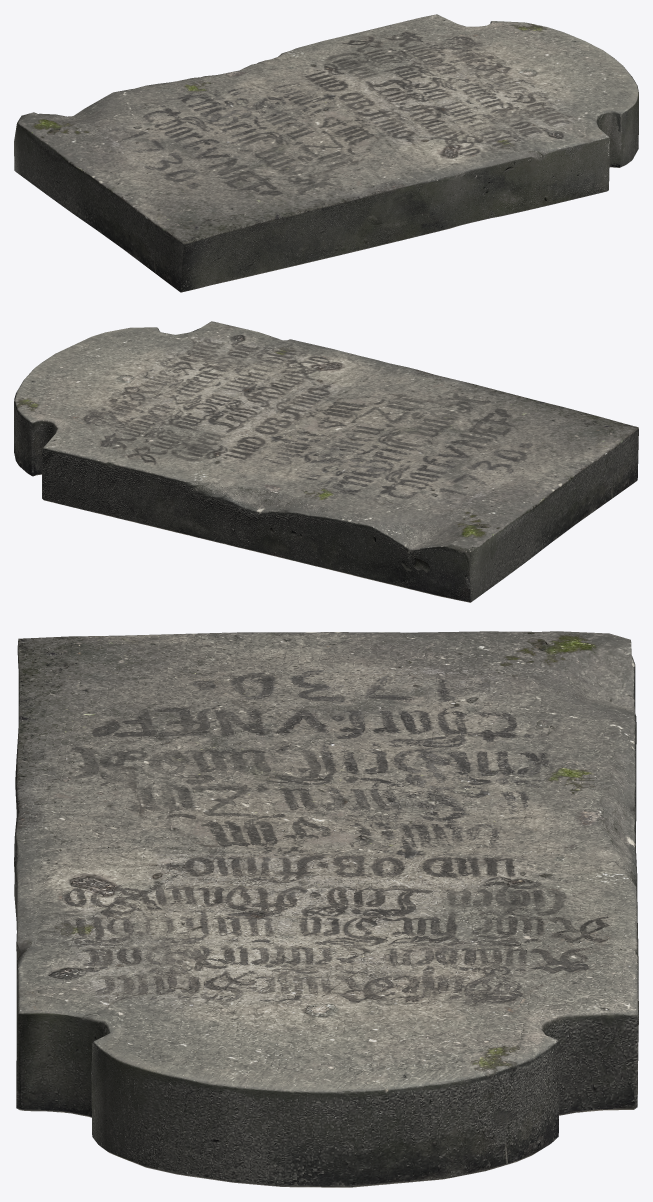
The model's file is sm_GraveDebris_04_01.fbx.
The picture shows the model from 3 angles, top to bottom: view 1: azimuth 30°, elevation 25°; view 2: azimuth 150°, elevation 25°; view 3: azimuth 270°, elevation 25°; orthographic projection. The views are drawn at different scales.
Visible parts, largest first — view 1: sm_GraveDebris_04_01_LOD0; view 2: sm_GraveDebris_04_01_LOD0; view 3: sm_GraveDebris_04_01_LOD0.
Boxes of the visible parts, x1,y1,x2,y2 form: sm_GraveDebris_04_01_LOD0: (14,14,638,292); sm_GraveDebris_04_01_LOD0: (14,321,638,602); sm_GraveDebris_04_01_LOD0: (14,631,638,1187).
Bounding box in the file's own units: 89.21 × 51.19 × 9.64.
